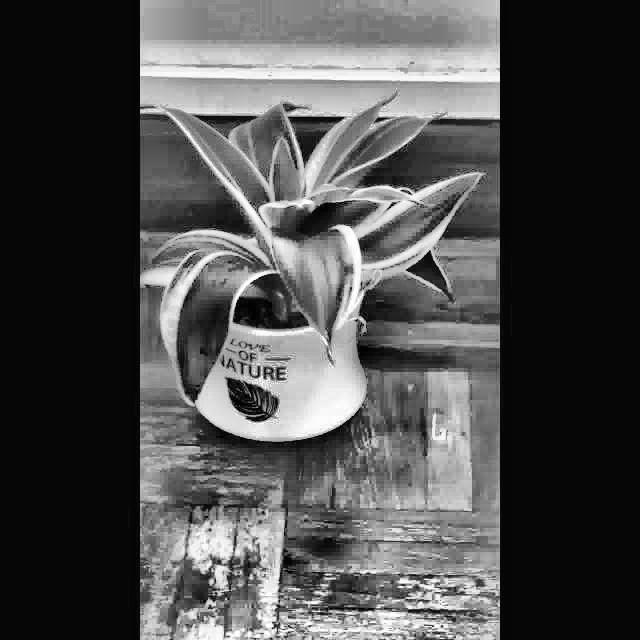plants: (140, 89, 490, 456)
